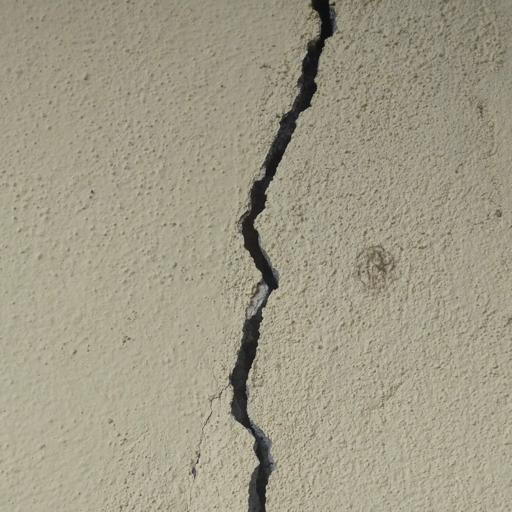major_crack: (216, 0, 338, 512)
